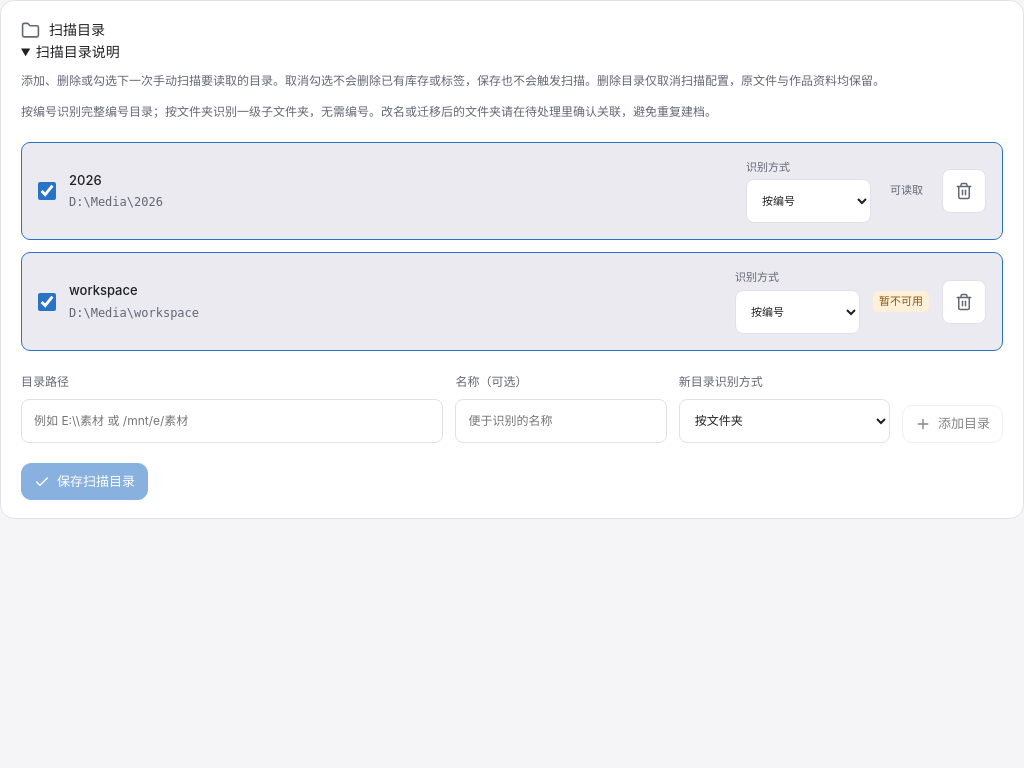
Test case: persisted scan directory selection › saves exact configured paths with the revision and prevents duplicate submissions
Click the checkbox named "扫描 workspace": x=47, y=302 [38,293,56,311]
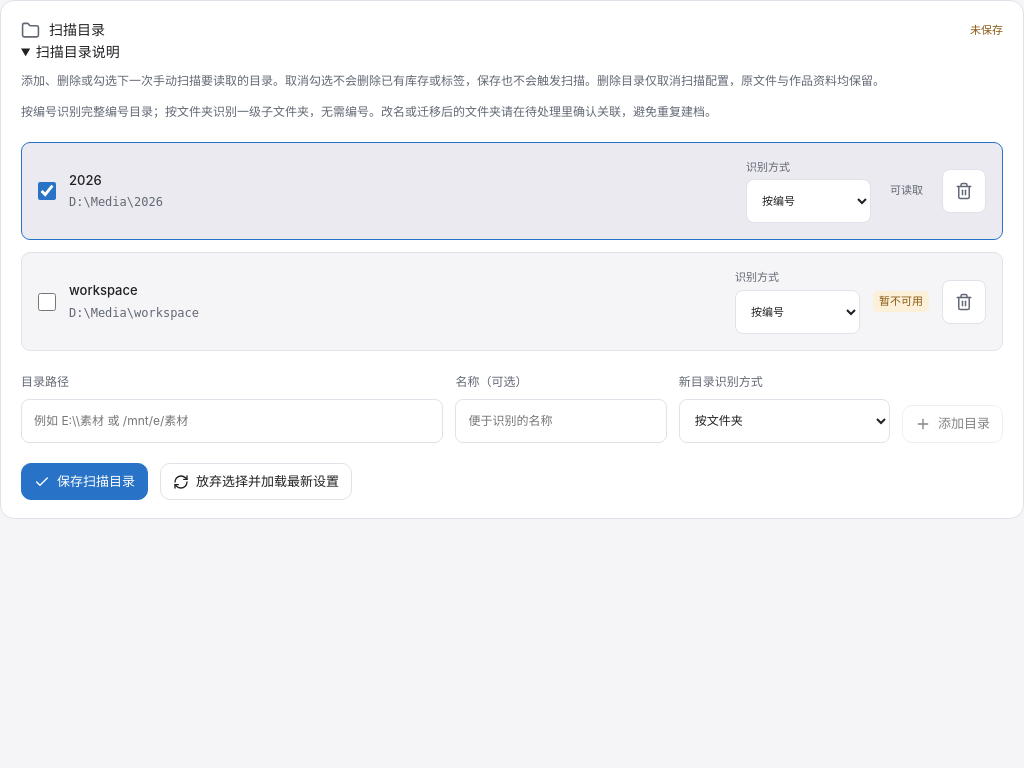
Click the button "保存扫描目录": x=84, y=482 [21,463,148,500]
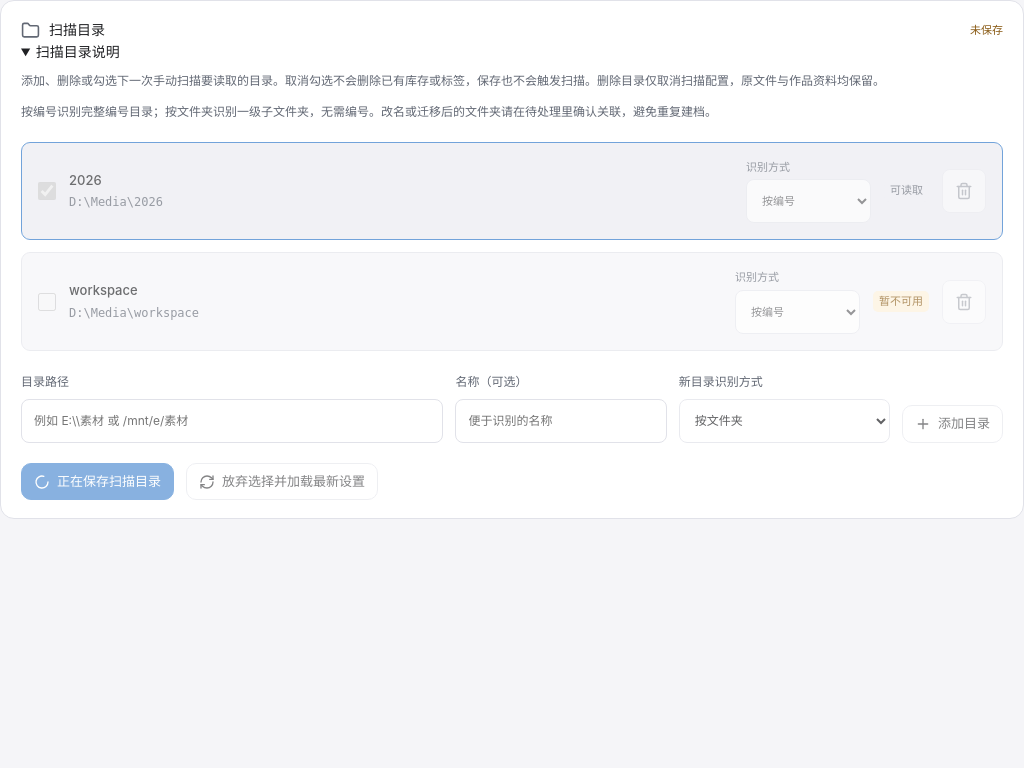
Click the button "正在保存扫描目录": x=98, y=482 [21,463,174,500]
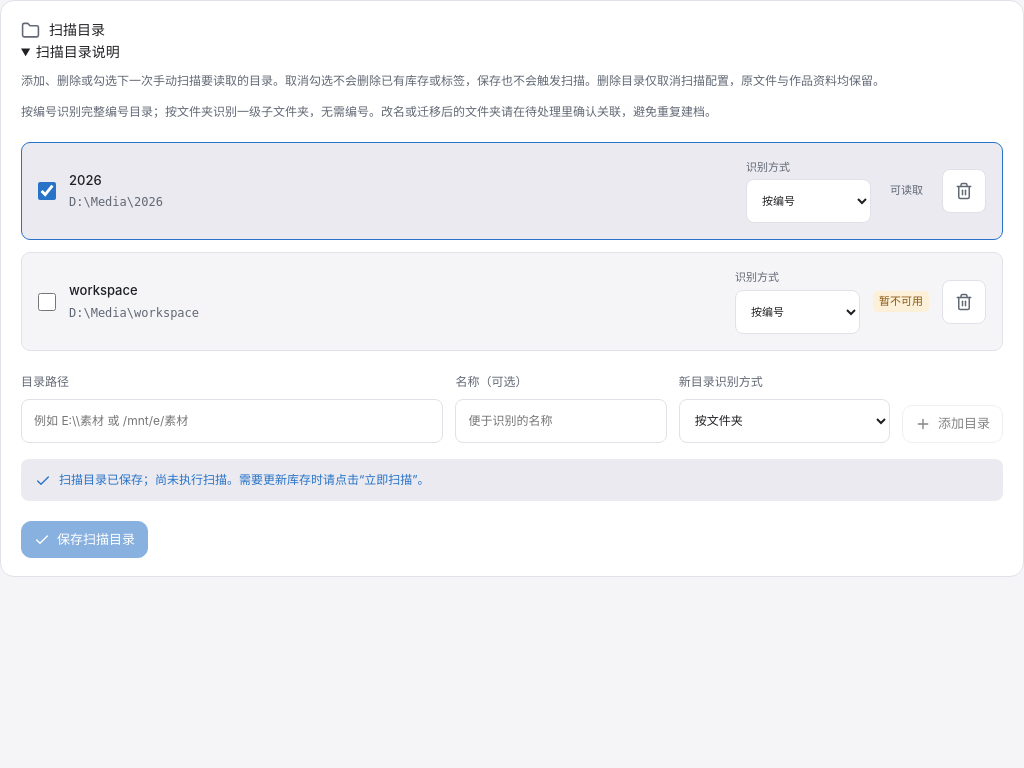
expect the checkbox named "扫描 workspace" is not checked: met, box [38,293,56,311]
expect the button "保存扫描目录" is disabled: met, box [21,521,148,558]
expect the text "扫描目录已保存；尚未执行扫描。需要更新库存时请点击“立即扫描”。" is shown: met, box [21,459,1003,501]
